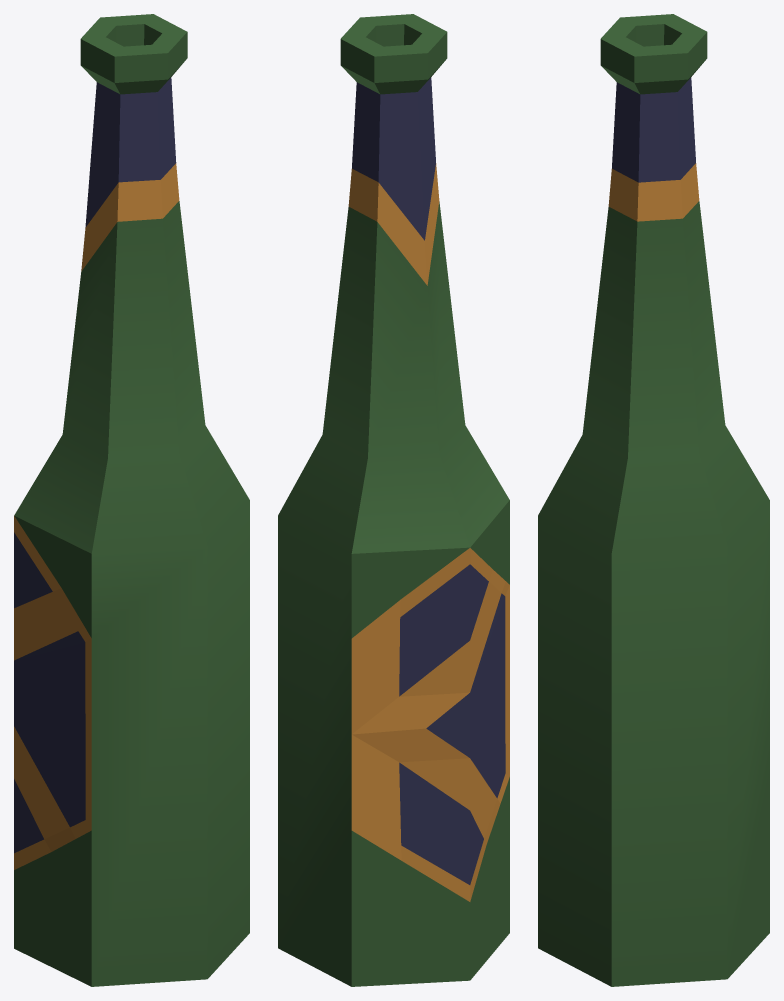
Rendered from Beer.glb.
The picture shows the model from 3 angles, left to right: view 1: azimuth 30°, elevation 25°; view 2: azimuth 150°, elevation 25°; view 3: azimuth 270°, elevation 25°; orthographic projection.
Visible parts, largest first — view 1: Cube.001; view 2: Cube.001; view 3: Cube.001.
Part boxes in pixels (<box>): Cube.001: <box>14,14,249,986</box>; Cube.001: <box>278,14,509,986</box>; Cube.001: <box>538,14,769,986</box>.
Size of the model in its own units: 0.2393 by 1.07 by 0.2491.
